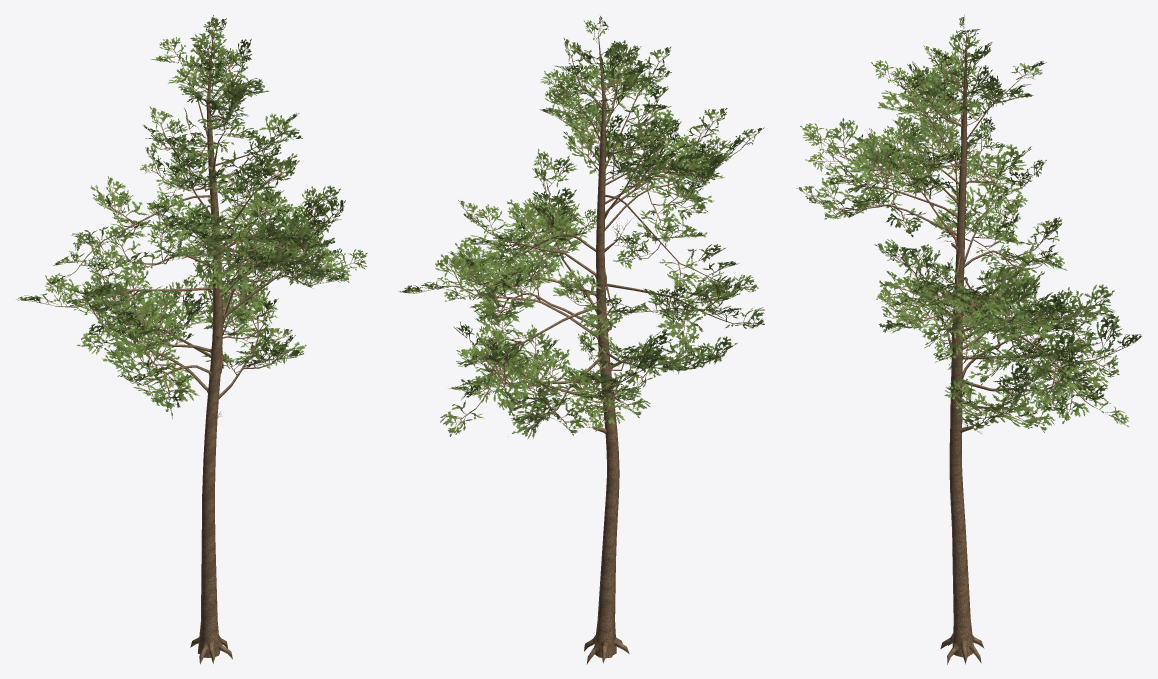
The picture shows the model from 3 angles, left to right: view 1: azimuth 30°, elevation 25°; view 2: azimuth 150°, elevation 25°; view 3: azimuth 270°, elevation 25°; orthographic projection.
Visible parts, largest first — view 1: Pine_large_1_LOD1_Bark_Mat_0; view 2: Pine_large_1_LOD1_Bark_Mat_0; view 3: Pine_large_1_LOD1_Bark_Mat_0.
Boxes of the visible parts, left/top/right/bottom form: Pine_large_1_LOD1_Bark_Mat_0: left=16, top=15, right=367, bottom=664; Pine_large_1_LOD1_Bark_Mat_0: left=398, top=16, right=764, bottom=664; Pine_large_1_LOD1_Bark_Mat_0: left=796, top=15, right=1141, bottom=664.
Size of the model in its own units: 17.37 by 31.81 by 15.52.
